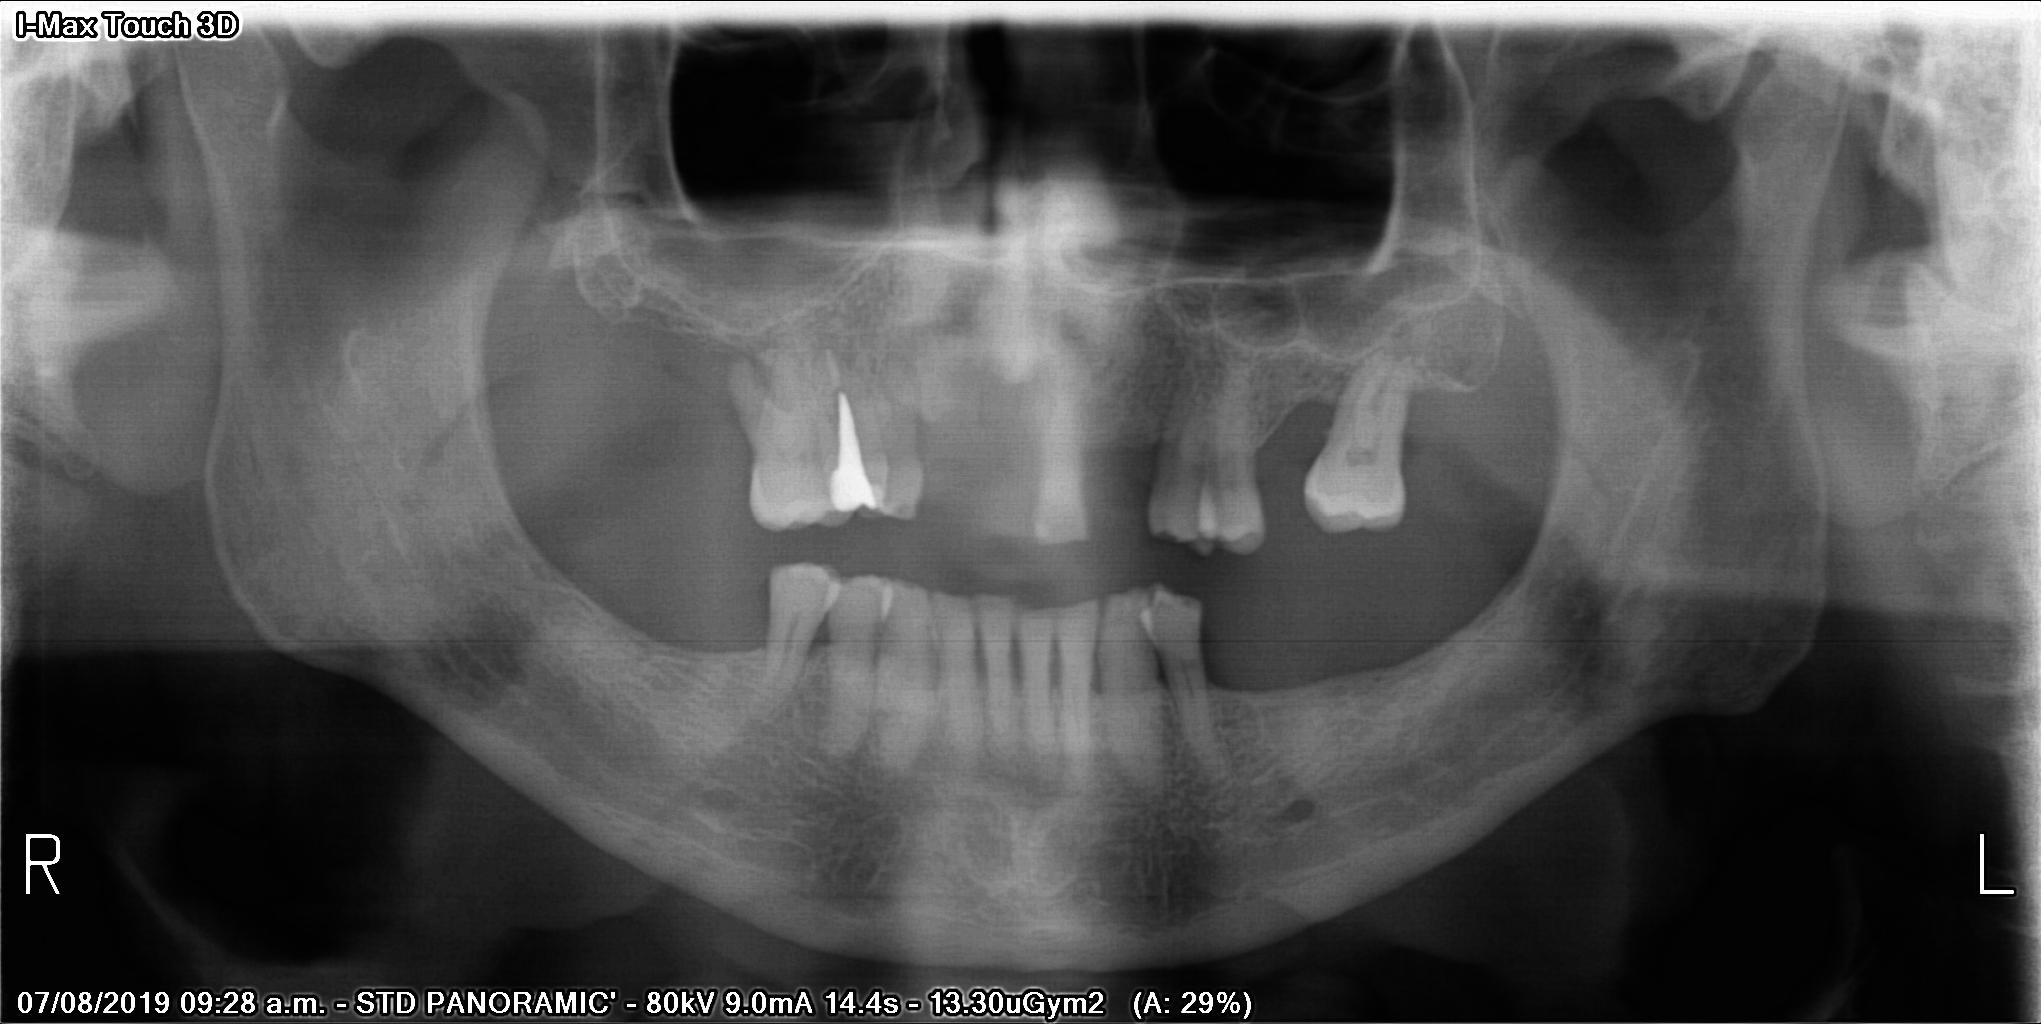Çürük: (816, 383, 891, 525)
